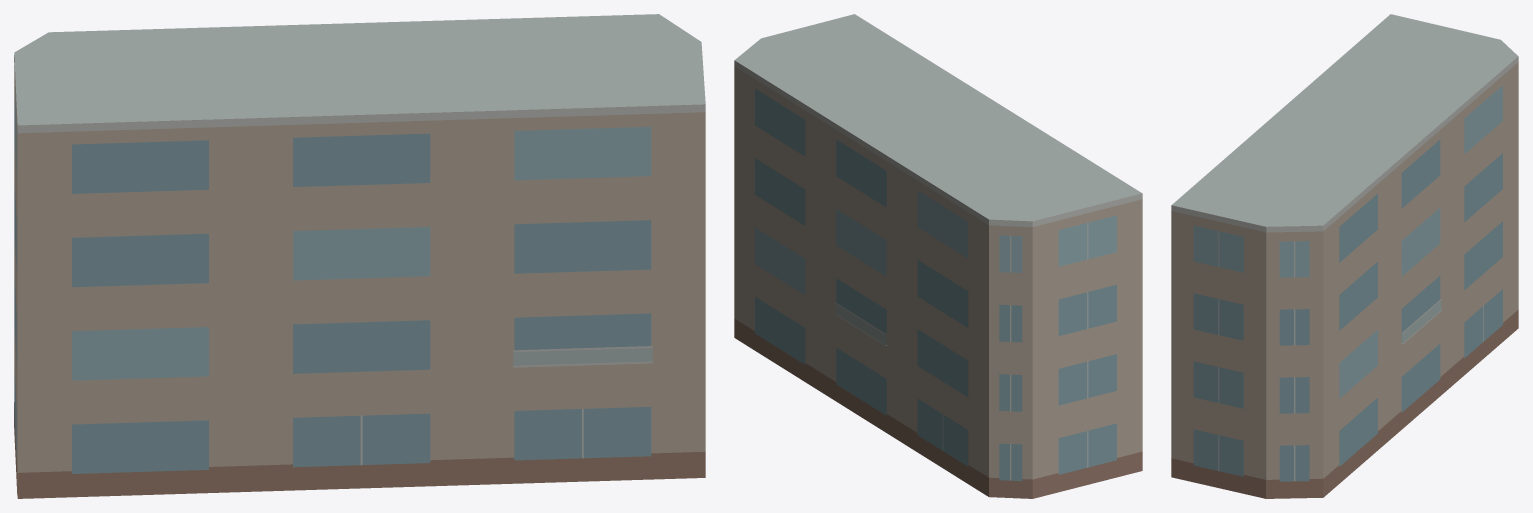
The model's file is survey-upis-32972016.glb.
3 renders of one model, left to right at view 1: azimuth 30°, elevation 25°; view 2: azimuth 150°, elevation 25°; view 3: azimuth 270°, elevation 25°, orthographic. The views are drawn at different scales.
Parts seen in each view (by area): view 1: survey-upis-32972016.tmp; view 2: survey-upis-32972016.tmp; view 3: survey-upis-32972016.tmp.
Boxes of the visible parts, x1,y1,x2,y2 form: survey-upis-32972016.tmp: (14,14,705,498); survey-upis-32972016.tmp: (734,14,1142,498); survey-upis-32972016.tmp: (1171,14,1518,498).
Size of the model in its own units: 19.64 by 11.7 by 13.54.
